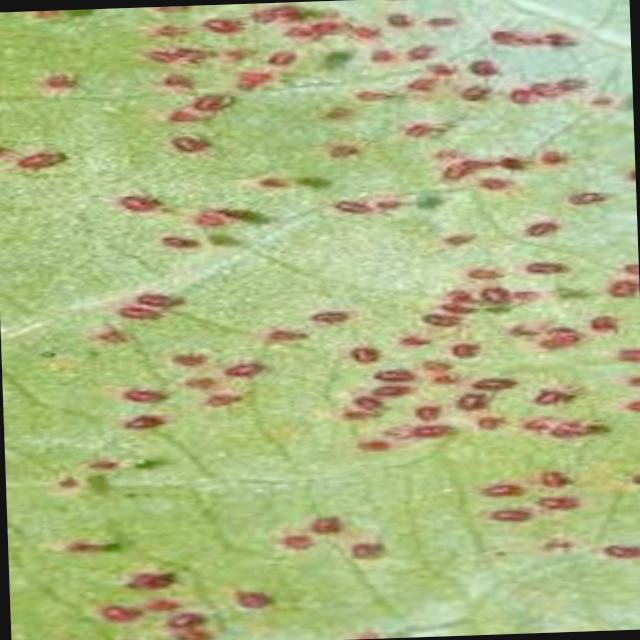spider mite: (591, 523, 640, 581), (108, 288, 167, 334), (436, 144, 491, 188), (154, 342, 218, 379), (546, 406, 606, 444), (218, 348, 276, 386), (194, 382, 246, 424), (8, 138, 62, 178), (115, 403, 162, 446), (225, 578, 288, 610), (346, 532, 392, 575), (465, 364, 523, 396), (110, 185, 160, 222), (395, 112, 438, 154), (417, 0, 469, 33), (44, 466, 89, 504), (508, 256, 565, 286), (250, 167, 308, 196), (304, 300, 352, 335), (188, 202, 232, 240), (176, 88, 228, 120), (258, 320, 313, 350), (481, 468, 524, 506), (160, 126, 208, 160), (150, 61, 198, 95), (229, 68, 277, 102), (528, 370, 576, 404), (508, 276, 564, 305), (552, 62, 592, 102), (416, 305, 466, 337), (163, 602, 210, 636), (322, 132, 368, 166), (464, 408, 510, 442), (514, 401, 556, 438), (433, 296, 488, 324), (484, 18, 523, 56), (156, 226, 202, 258), (497, 82, 536, 118), (37, 70, 78, 104), (200, 3, 242, 36), (478, 170, 520, 203), (518, 214, 560, 247), (128, 566, 174, 596), (151, 102, 197, 132), (119, 382, 162, 414), (584, 90, 633, 118), (102, 594, 140, 630), (66, 530, 106, 564), (464, 48, 504, 82), (244, 1, 302, 24), (372, 184, 411, 218), (328, 189, 372, 219), (397, 71, 439, 102), (586, 303, 622, 339), (78, 452, 120, 482), (312, 15, 346, 52), (403, 416, 453, 441), (368, 358, 414, 385), (346, 337, 386, 368), (600, 336, 640, 367), (568, 188, 612, 215), (321, 89, 358, 121), (526, 75, 562, 107), (602, 272, 640, 302), (353, 432, 392, 461), (429, 54, 462, 88), (540, 533, 580, 561), (131, 288, 189, 307), (399, 38, 438, 66), (173, 37, 210, 66), (532, 26, 574, 51), (492, 496, 529, 524), (288, 20, 318, 54), (140, 18, 182, 42), (496, 144, 526, 176), (371, 36, 400, 69), (356, 76, 390, 104), (540, 466, 574, 494), (25, 9, 67, 31), (469, 264, 506, 288), (478, 280, 514, 304), (400, 328, 437, 351), (446, 223, 476, 251), (372, 378, 412, 399), (94, 326, 132, 348), (310, 510, 342, 536), (260, 48, 296, 71), (346, 20, 382, 43), (444, 282, 478, 306), (503, 318, 540, 340), (458, 390, 488, 417), (220, 42, 251, 68), (456, 82, 490, 105), (426, 366, 456, 392), (542, 145, 573, 170), (412, 402, 444, 426), (180, 370, 216, 391), (423, 351, 452, 377), (534, 492, 568, 514), (144, 48, 174, 72), (278, 530, 309, 552), (618, 392, 640, 423), (608, 256, 639, 278), (334, 407, 368, 427), (614, 369, 640, 392), (385, 8, 414, 28), (351, 394, 384, 409)
